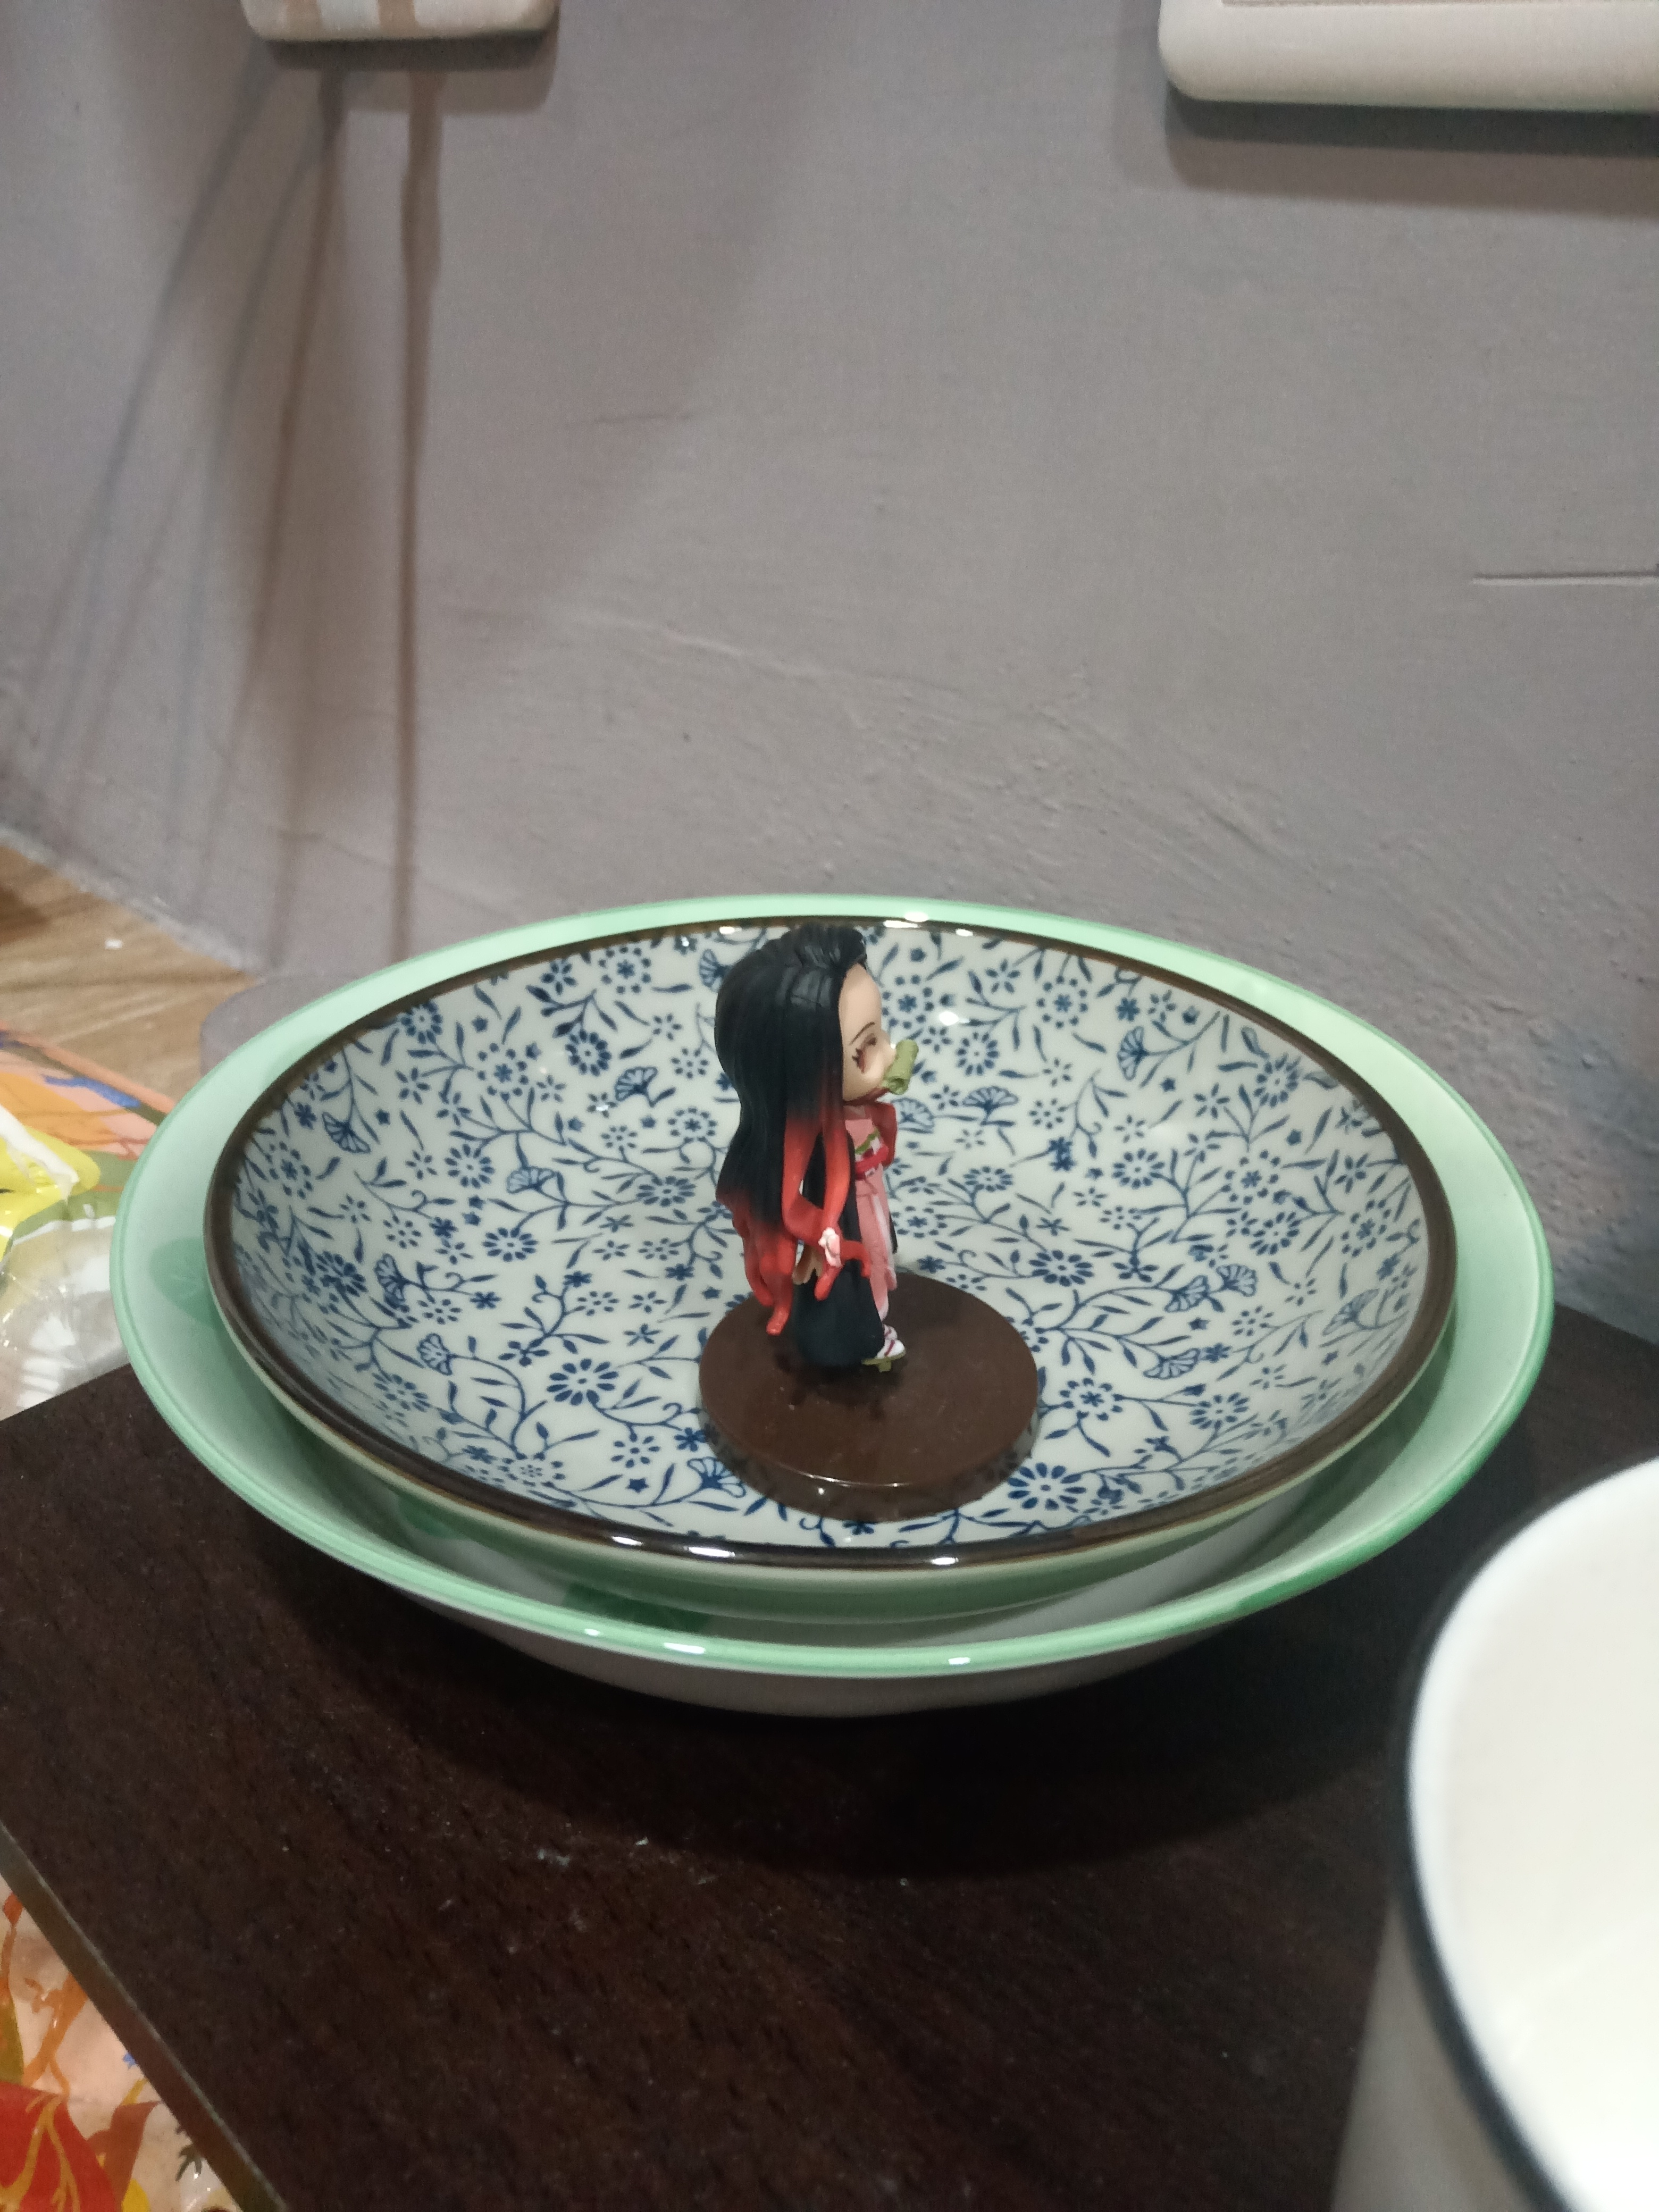Nezuko: (683, 914, 1058, 1536)
